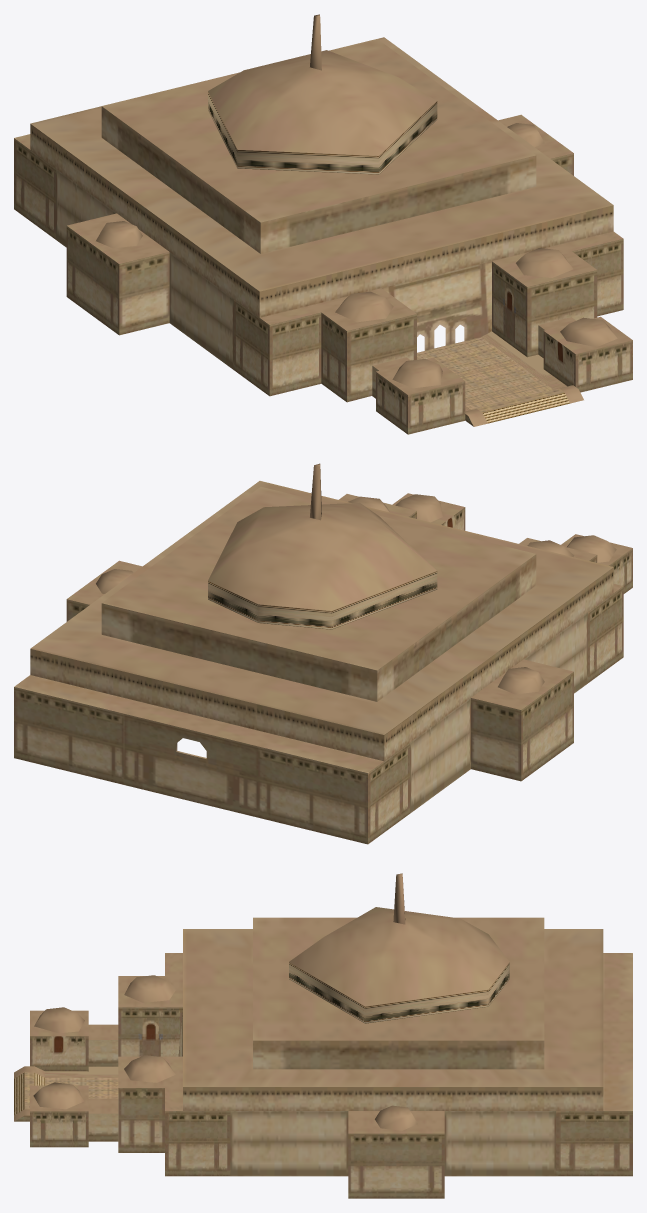
The model's file is mun_tato_capitol_s01_r0_mesh_l4.fbx.
3 views of the same model, one above another, from view 1: azimuth 30°, elevation 25°; view 2: azimuth 150°, elevation 25°; view 3: azimuth 270°, elevation 25° (orthographic). The views are drawn at different scales.
Parts seen in each view (by area): view 1: mesh_node; view 2: mesh_node; view 3: mesh_node.
Boxes of the visible parts, x1,y1,x2,y2 form: mesh_node: (14,14,632,434); mesh_node: (14,463,632,844); mesh_node: (14,873,632,1198).
Size of the model in its own units: 82.46 by 42.14 by 106.
